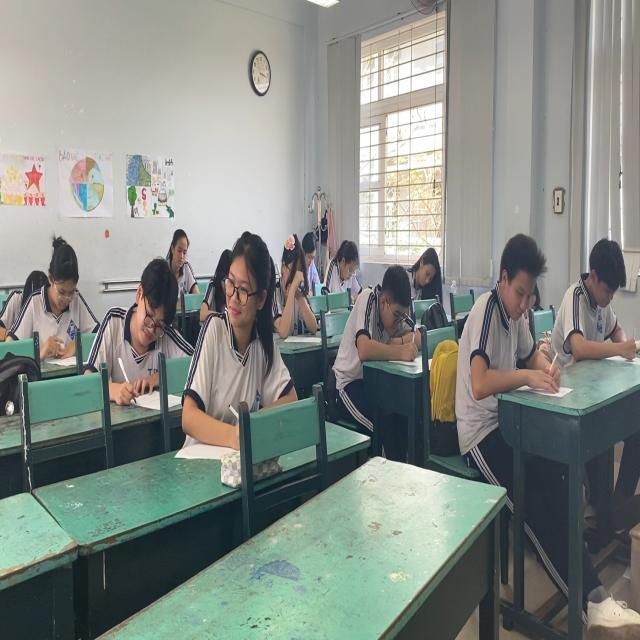cheating: (201, 229, 275, 440)
not_cheating: (464, 233, 554, 395), (100, 257, 189, 395), (22, 229, 102, 358), (562, 236, 634, 364), (356, 260, 418, 367), (274, 233, 318, 340), (323, 240, 362, 308), (160, 222, 199, 288), (407, 229, 444, 298)
